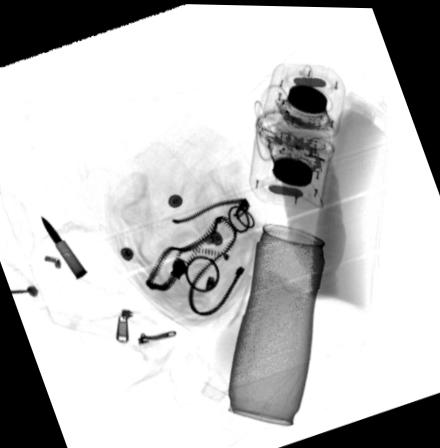Bullet: (38, 212, 87, 279)
